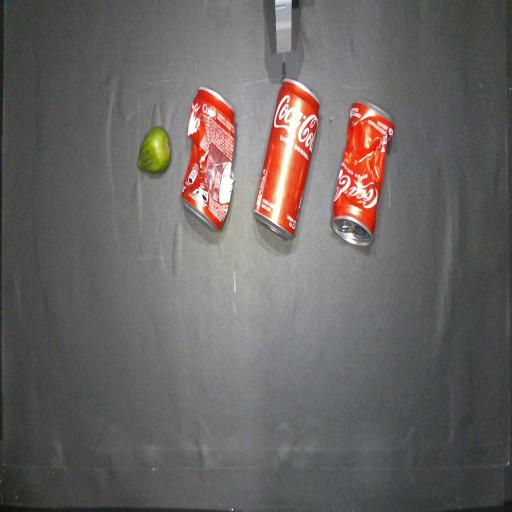higo: (138, 126, 171, 174)
lata: (254, 80, 319, 239)
lata_defectuoso: (331, 102, 394, 246), (182, 88, 235, 230)
